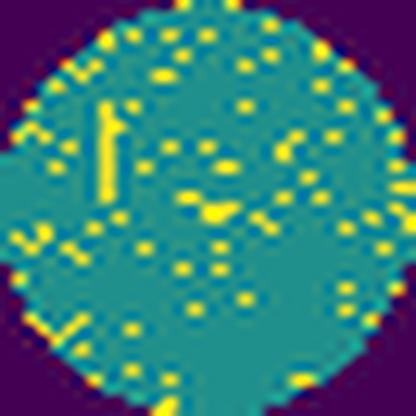Scratch: (96, 98, 133, 209)
